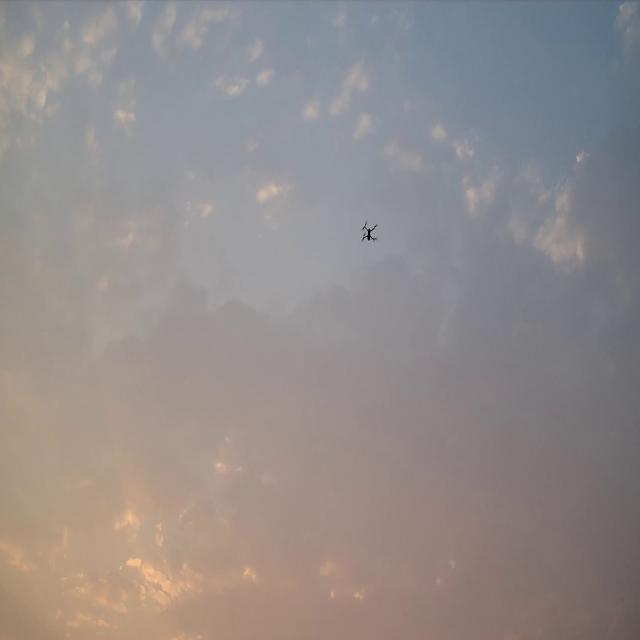UAV: (361, 220, 378, 242)
